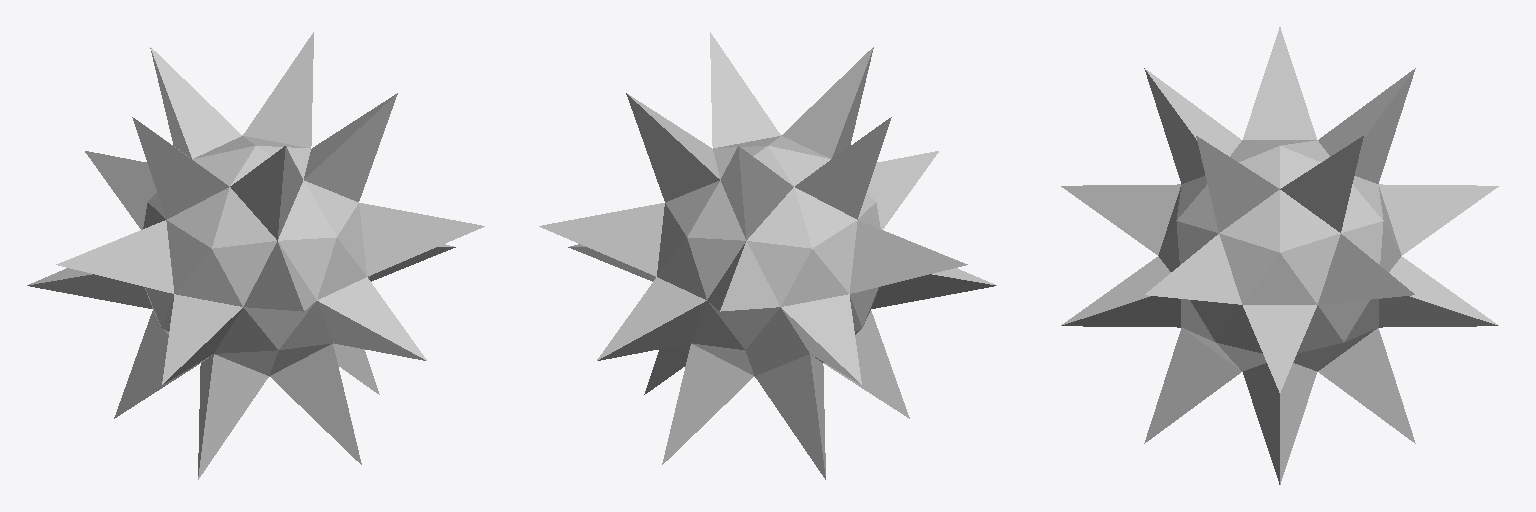
The model's file is mine.obj.
3 views of the same model, side by side, from view 1: azimuth 30°, elevation 25°; view 2: azimuth 150°, elevation 25°; view 3: azimuth 270°, elevation 25° (orthographic).
Bounding box in the file's own units: 3.8 × 3.07 × 3.61.